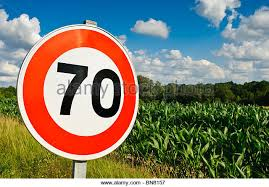Speed_limit_70km: (17, 24, 140, 158)
